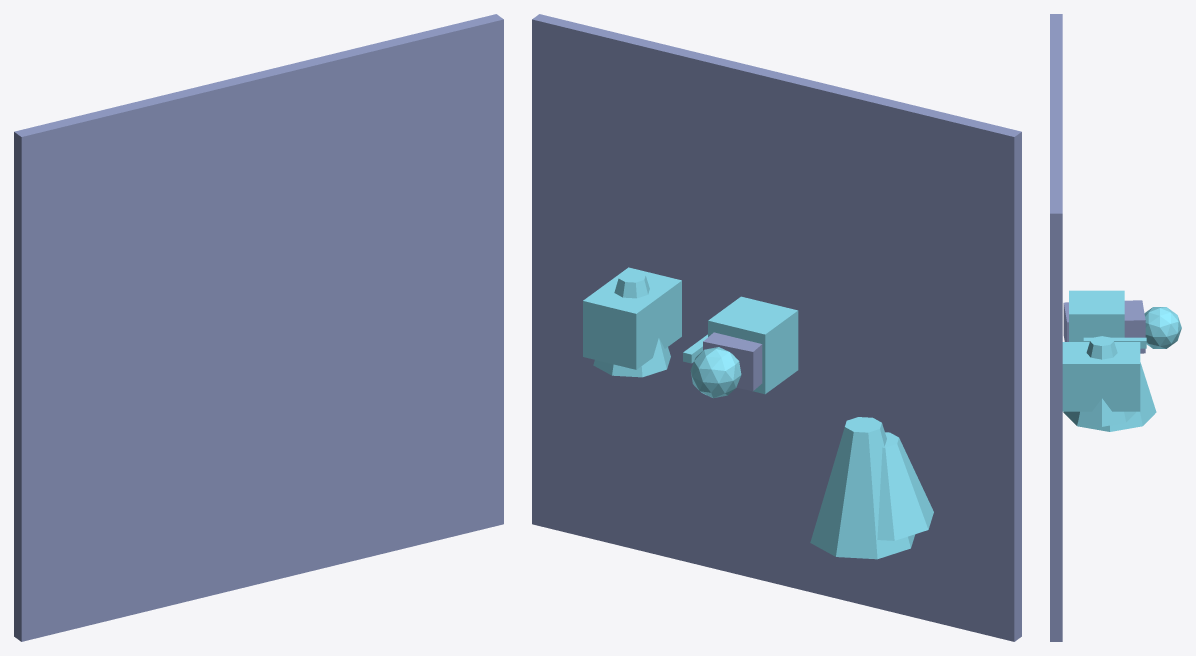
Rendered from silent-embassy-kit.glb.
The picture shows the model from 3 angles, left to right: view 1: azimuth 30°, elevation 25°; view 2: azimuth 150°, elevation 25°; view 3: azimuth 270°, elevation 25°; orthographic projection. The views are drawn at different scales.
Parts seen in each view (by area): view 1: ENVIRONMENT_GROUND; view 2: ENVIRONMENT_GROUND, PROFILE_ENVIRONMENT_DETAIL, PROFILE_OBSTACLE_DETAIL, PROFILE_PLAYER_DETAIL, ENVIRONMENT_LANDMARK, PLAYER_HEAD, OBSTACLE, PLAYER_BODY; view 3: ENVIRONMENT_GROUND, PROFILE_OBSTACLE_DETAIL, PROFILE_PLAYER_DETAIL, OBSTACLE, PLAYER_HEAD, PROFILE_ENVIRONMENT_DETAIL, PLAYER_BODY, PLAYER_TOOL.
Part boxes in pixels (x1,y1,x2,y2): ENVIRONMENT_GROUND: [14, 14, 503, 641]; ENVIRONMENT_GROUND: [532, 14, 1021, 641]; PROFILE_ENVIRONMENT_DETAIL: [810, 417, 915, 559]; PROFILE_OBSTACLE_DETAIL: [583, 267, 681, 369]; PROFILE_PLAYER_DETAIL: [708, 296, 798, 394]; ENVIRONMENT_LANDMARK: [877, 432, 933, 540]; PLAYER_HEAD: [690, 347, 741, 398]; OBSTACLE: [593, 271, 670, 377]; PLAYER_BODY: [703, 332, 762, 390]; ENVIRONMENT_GROUND: [1050, 14, 1062, 641]; PROFILE_OBSTACLE_DETAIL: [1062, 342, 1140, 411]; PROFILE_PLAYER_DETAIL: [1069, 290, 1124, 341]; OBSTACLE: [1068, 336, 1135, 426]; PLAYER_HEAD: [1144, 307, 1181, 348]; PROFILE_ENVIRONMENT_DETAIL: [1063, 362, 1156, 431]; PLAYER_BODY: [1063, 300, 1145, 353]; PLAYER_TOOL: [1083, 337, 1146, 348].
Size of what is drawn, in the model's own units: 9 by 9 by 2.51.
